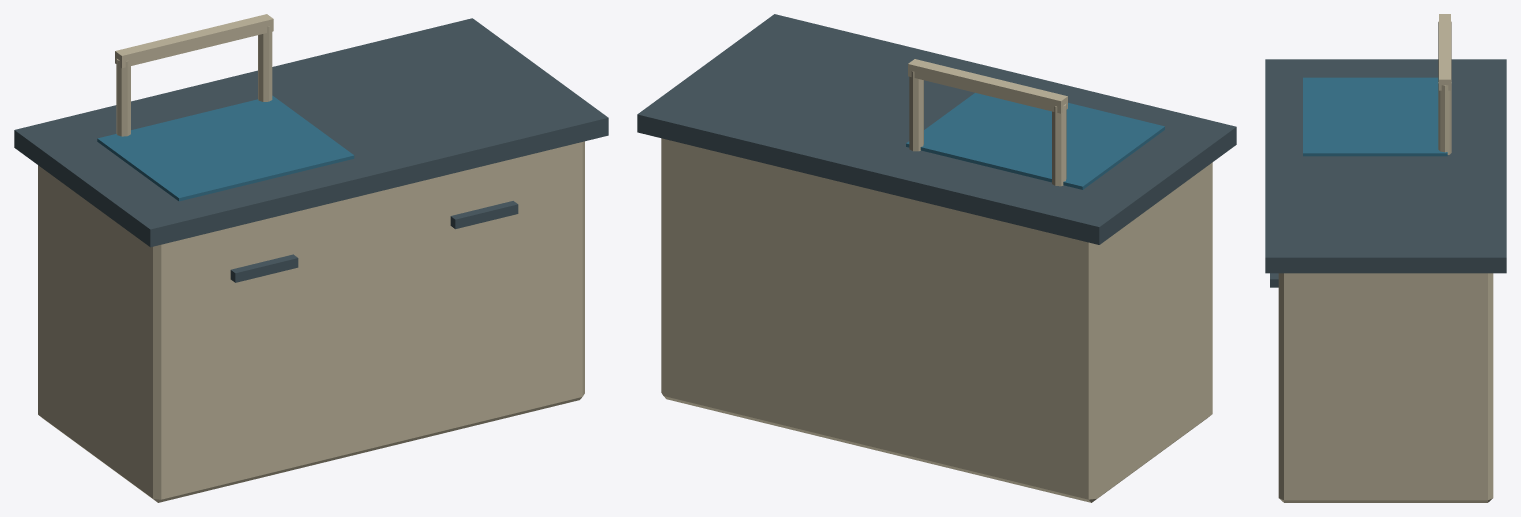
File: laboratory_sink.glb
The picture shows the model from 3 angles, left to right: view 1: azimuth 30°, elevation 25°; view 2: azimuth 150°, elevation 25°; view 3: azimuth 270°, elevation 25°; orthographic projection. The views are drawn at different scales.
Visible parts, largest first — view 1: laboratory_sink; view 2: laboratory_sink; view 3: laboratory_sink.
Part boxes in pixels (x1,y1,x2,y2): laboratory_sink: [14, 14, 608, 502]; laboratory_sink: [637, 14, 1236, 502]; laboratory_sink: [1265, 14, 1506, 502].
Size of the model in its own units: 1.75 by 1.35 by 0.9.
